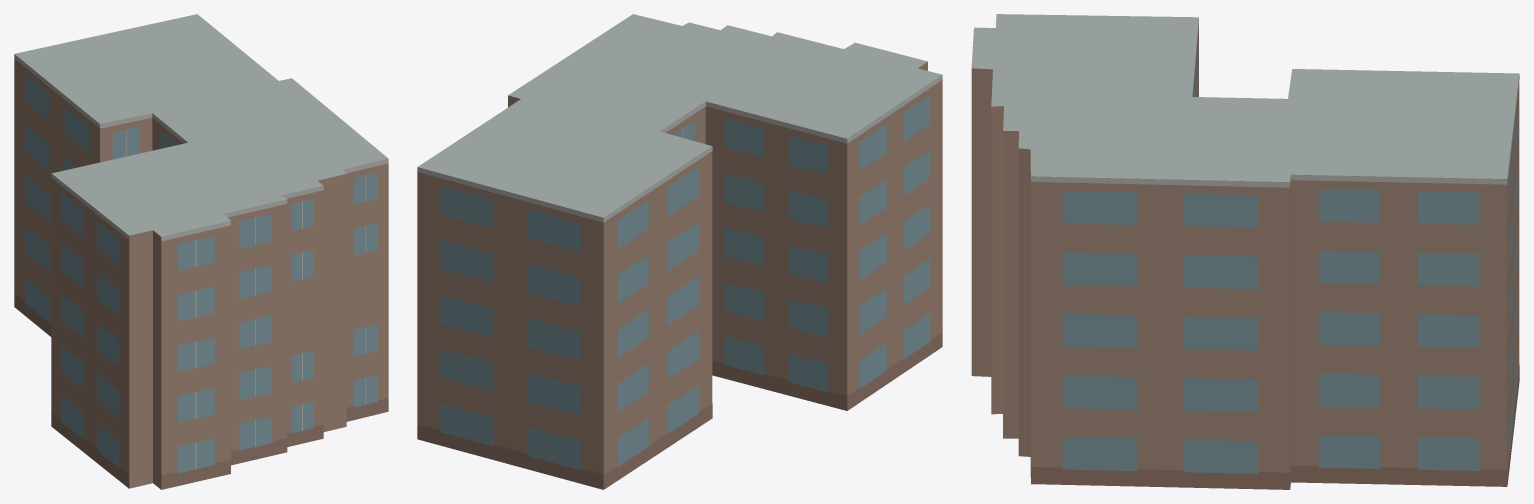
The model's file is survey-upis-33025590.glb.
3 renders of one model, left to right at view 1: azimuth 30°, elevation 25°; view 2: azimuth 150°, elevation 25°; view 3: azimuth 270°, elevation 25°, orthographic. The views are drawn at different scales.
Visible parts, largest first — view 1: survey-upis-33025590.tmp; view 2: survey-upis-33025590.tmp; view 3: survey-upis-33025590.tmp.
Boxes of the visible parts, x1,y1,x2,y2 form: survey-upis-33025590.tmp: [14, 14, 388, 489]; survey-upis-33025590.tmp: [417, 14, 942, 489]; survey-upis-33025590.tmp: [971, 14, 1519, 489].
Bounding box in the file's own units: 15.95 × 13.6 × 21.96.
